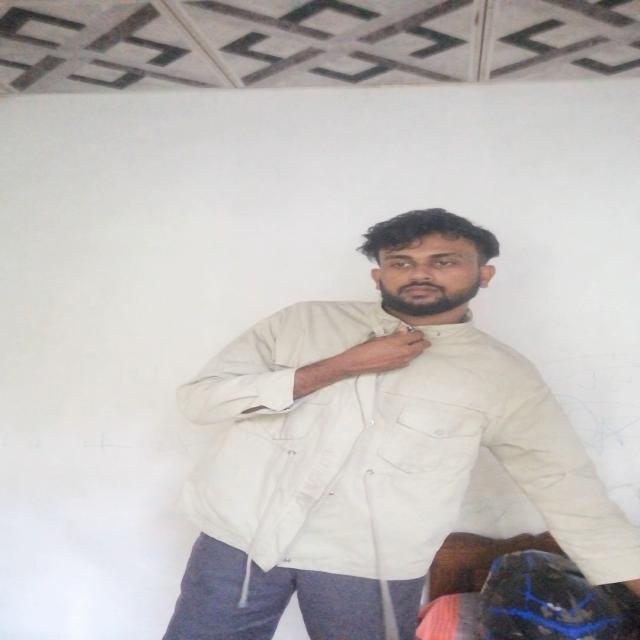Jacket_Wearer: (170, 290, 634, 572)
Person: (169, 201, 640, 640)
